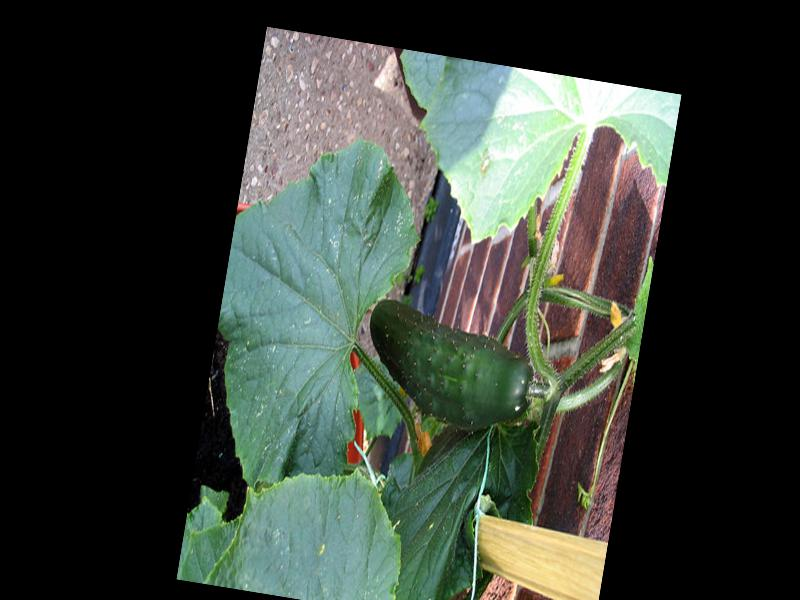Cucumber: (355, 293, 542, 437)
